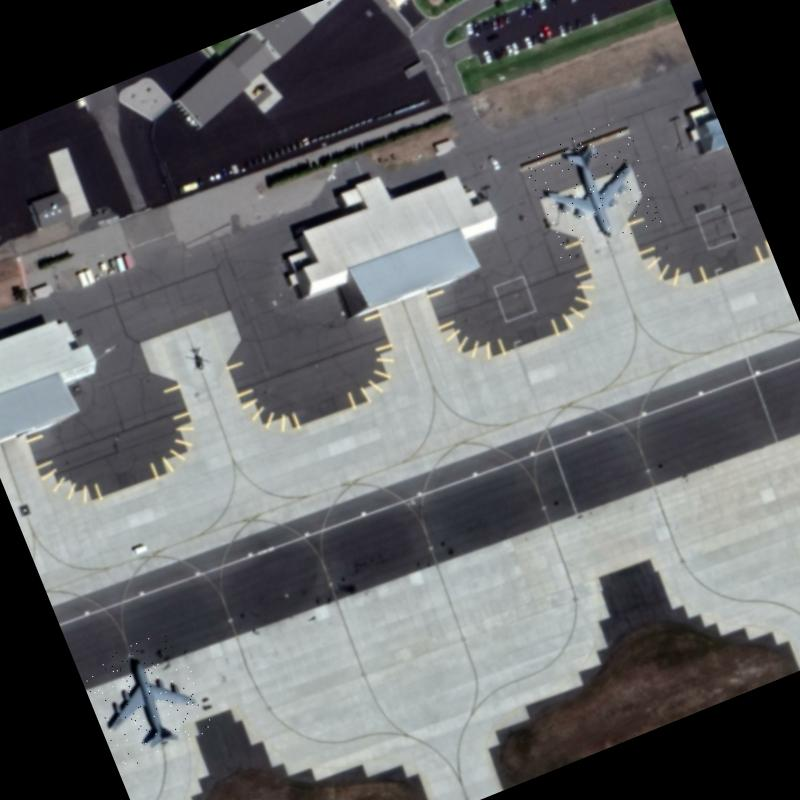A14: (520, 116, 666, 262), (78, 626, 217, 770)
